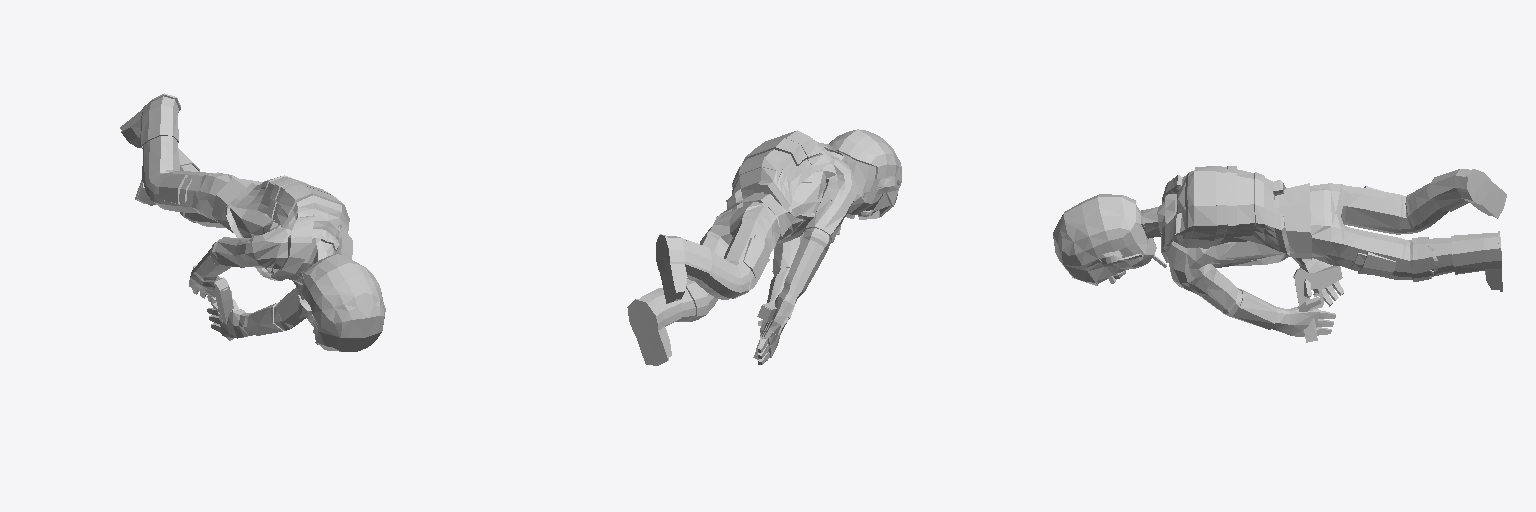
The model's file is frame_0042.obj.
The picture shows the model from 3 angles: view 1: azimuth 30°, elevation 25°; view 2: azimuth 150°, elevation 25°; view 3: azimuth 270°, elevation 25°; orthographic projection.
Visible parts, largest first — view 1: Body, Gun; view 2: Body; view 3: Body, Gun.
Boxes of the visible parts, <box> form: Body: <box>120,93,385,351</box>; Gun: <box>193,264,233,340</box>; Body: <box>627,129,901,365</box>; Body: <box>1053,166,1506,336</box>; Gun: <box>1293,266,1342,342</box>.
Bounding box in the file's own units: 1.13 × 1.86 × 4.2.